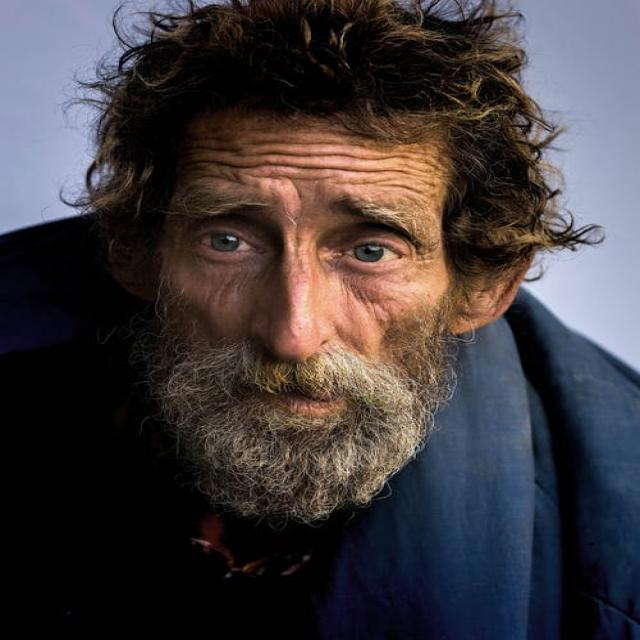Wrinkles: (197, 160, 405, 172), (258, 176, 314, 199), (253, 152, 385, 160), (378, 184, 429, 197), (192, 173, 243, 184), (245, 142, 340, 145), (340, 179, 386, 185), (198, 147, 243, 150)
